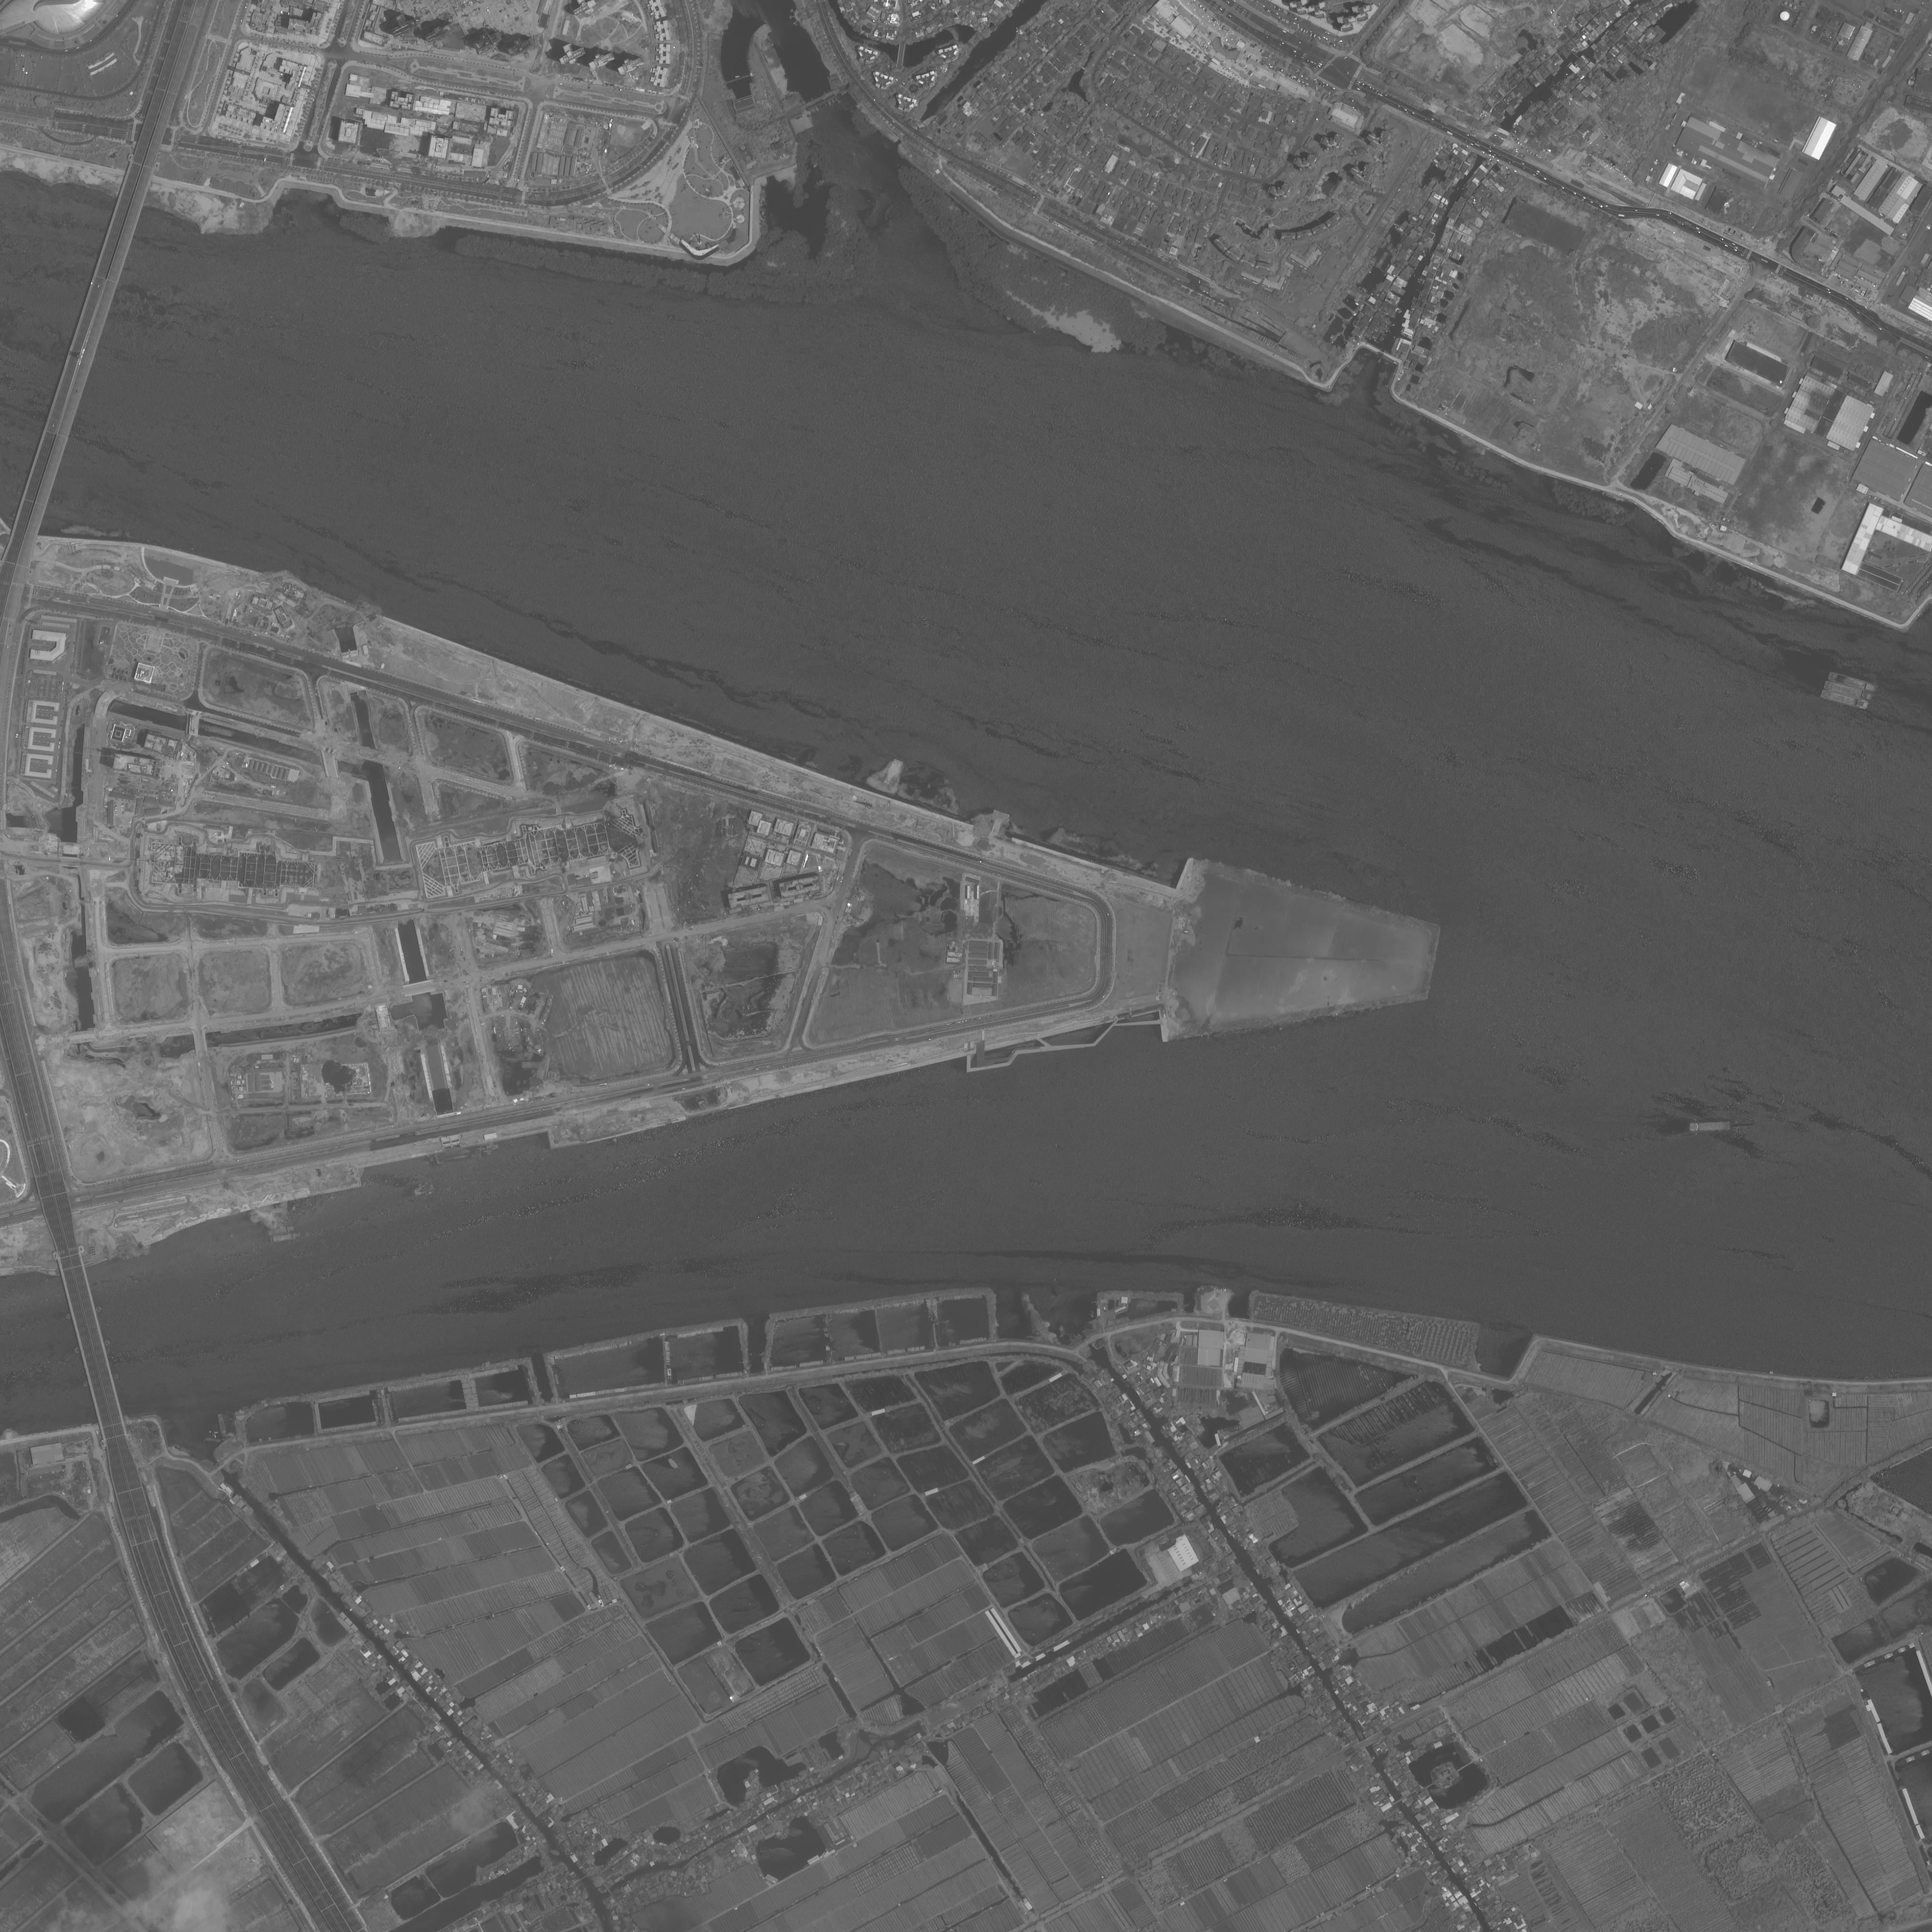ship: (1824, 667, 1882, 695), (1821, 679, 1875, 704), (1817, 688, 1872, 713), (1688, 1120, 1755, 1132), (260, 1223, 297, 1240), (264, 1231, 304, 1247), (410, 1180, 439, 1200), (214, 1412, 230, 1437)
